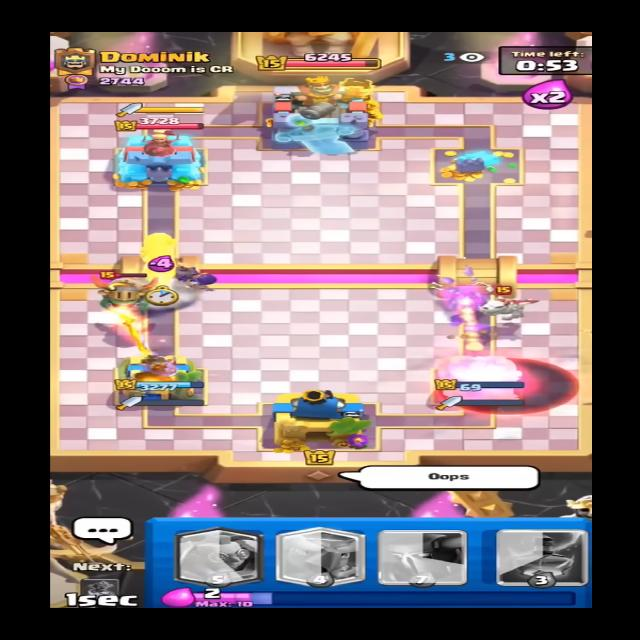inferno-dragon: (88, 264, 172, 312)
skeleton-dragon: (467, 283, 529, 321)
void: (450, 359, 580, 416)
